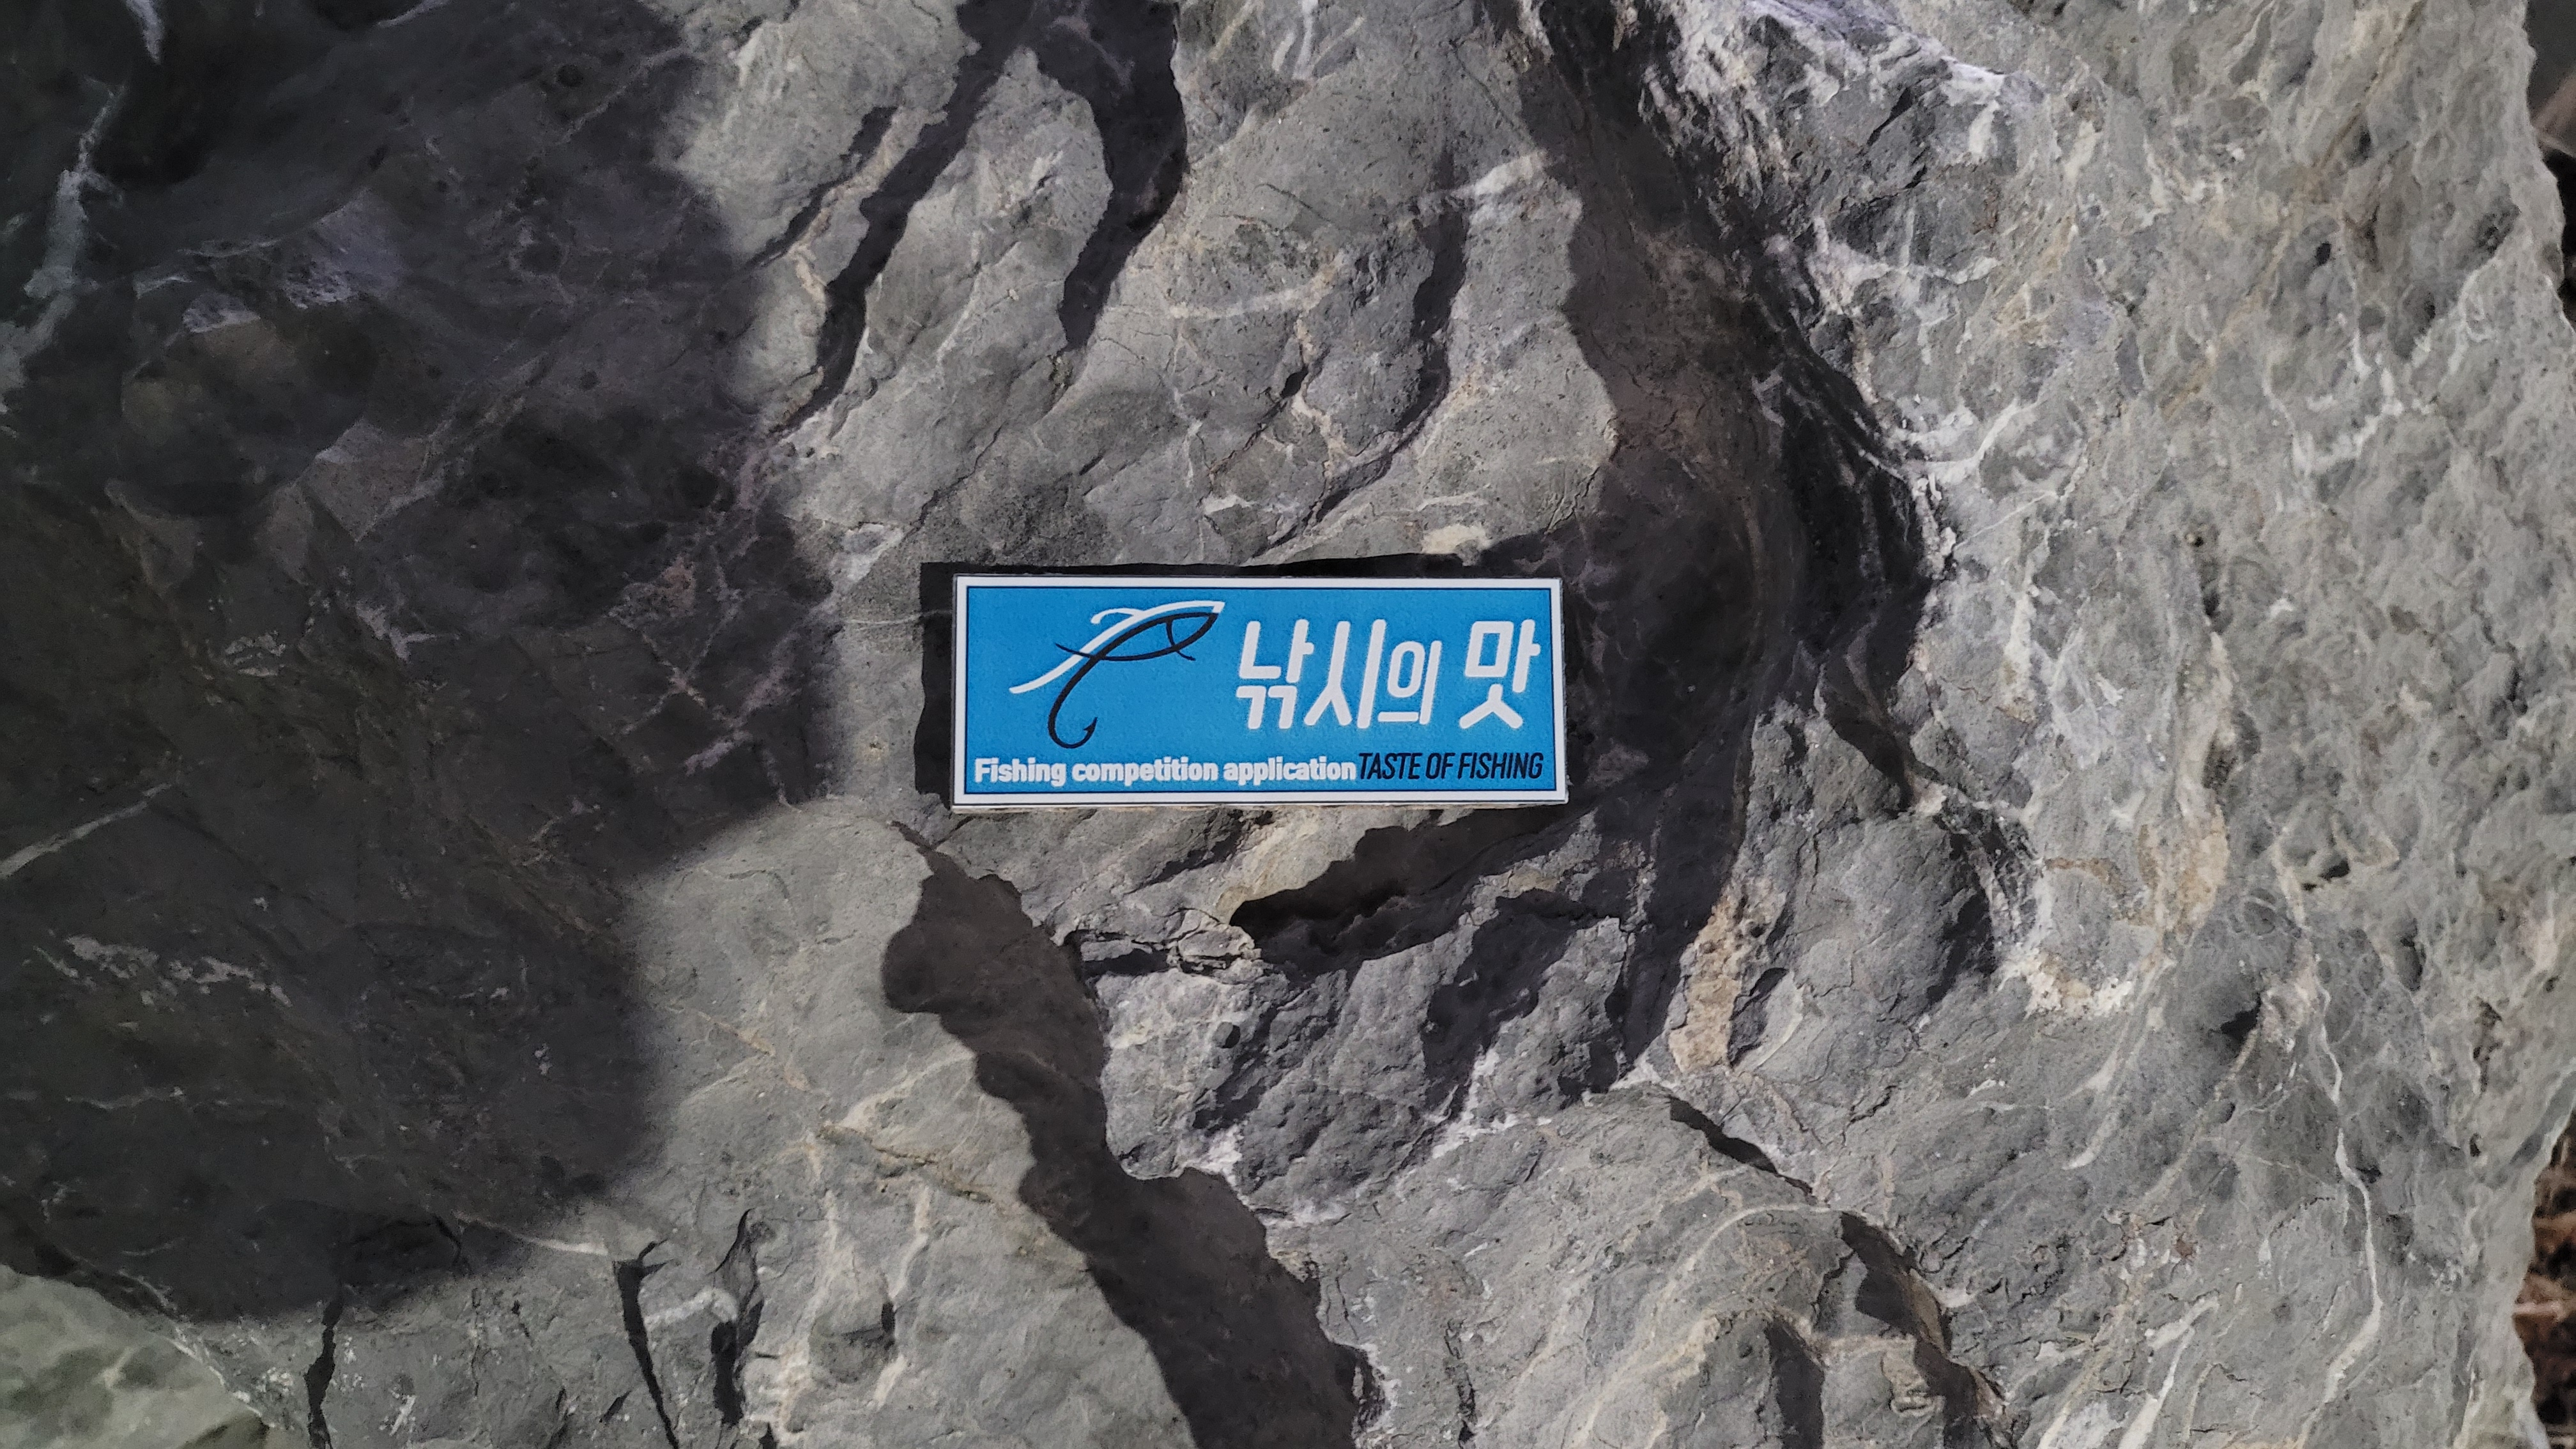tag: (954, 575, 1571, 805)
